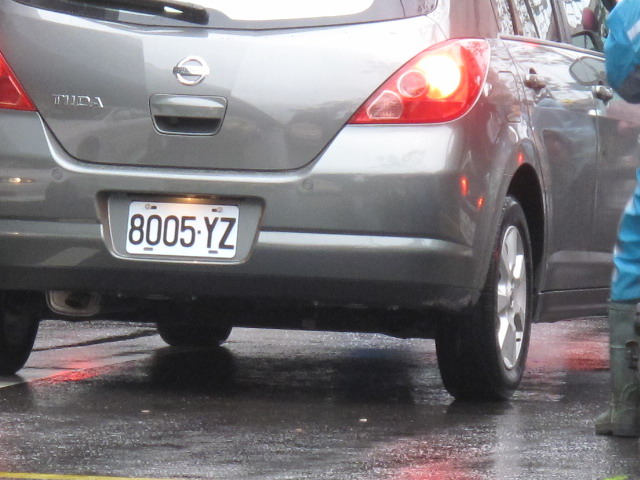plate: (124, 199, 241, 259)
